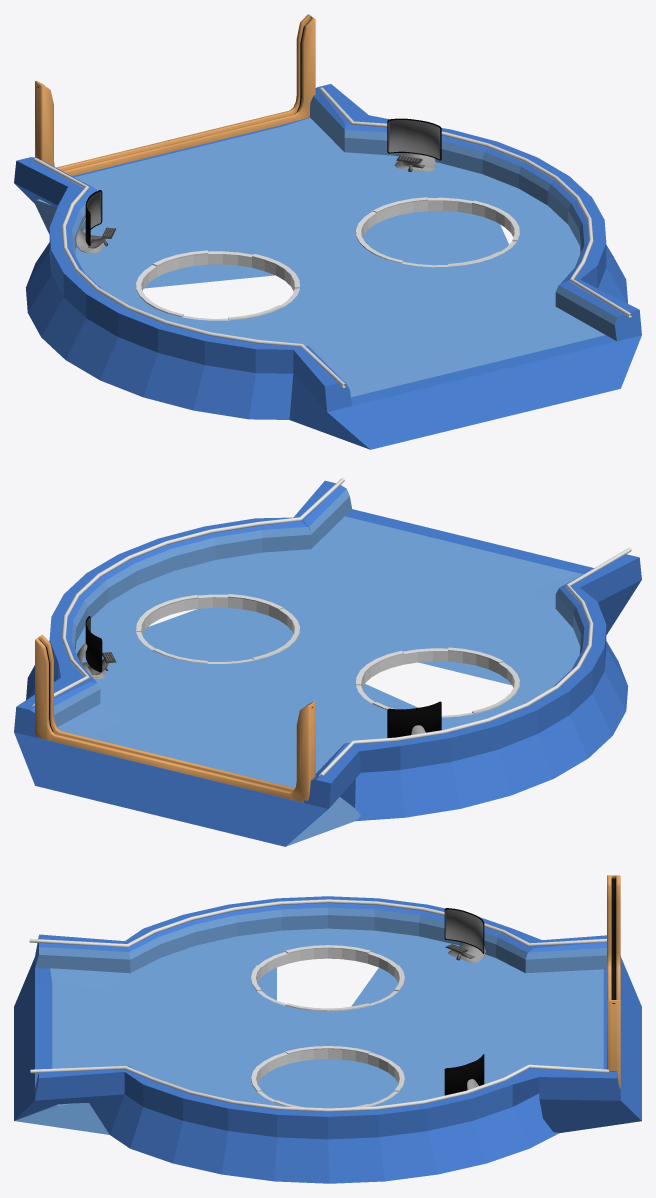
Rendered from Platform 1 - Base.fbx.
3 views of the same model, one above another, from view 1: azimuth 30°, elevation 25°; view 2: azimuth 150°, elevation 25°; view 3: azimuth 270°, elevation 25° (orthographic). The views are drawn at different scales.
Parts seen in each view (by area): view 1: BasePlatform-2, DoorEdge.001, Circle.007, PC.001; view 2: BasePlatform-2, DoorEdge.001, Circle.007, PC.001; view 3: BasePlatform-2, Circle.007, PC.001, DoorEdge.001.
Part boxes in pixels (x1,y1,x2,y2): BasePlatform-2: [14, 84, 641, 449]; DoorEdge.001: [35, 14, 315, 175]; Circle.007: [34, 87, 632, 387]; PC.001: [76, 118, 441, 253]; BasePlatform-2: [14, 480, 641, 846]; DoorEdge.001: [35, 635, 315, 802]; Circle.007: [32, 478, 631, 776]; PC.001: [77, 616, 441, 737]; BasePlatform-2: [14, 896, 641, 1183]; Circle.007: [29, 899, 609, 1111]; PC.001: [444, 908, 485, 1095]; DoorEdge.001: [607, 875, 620, 1088].
Bounding box in the file's own units: 2781 × 689 × 3091.
